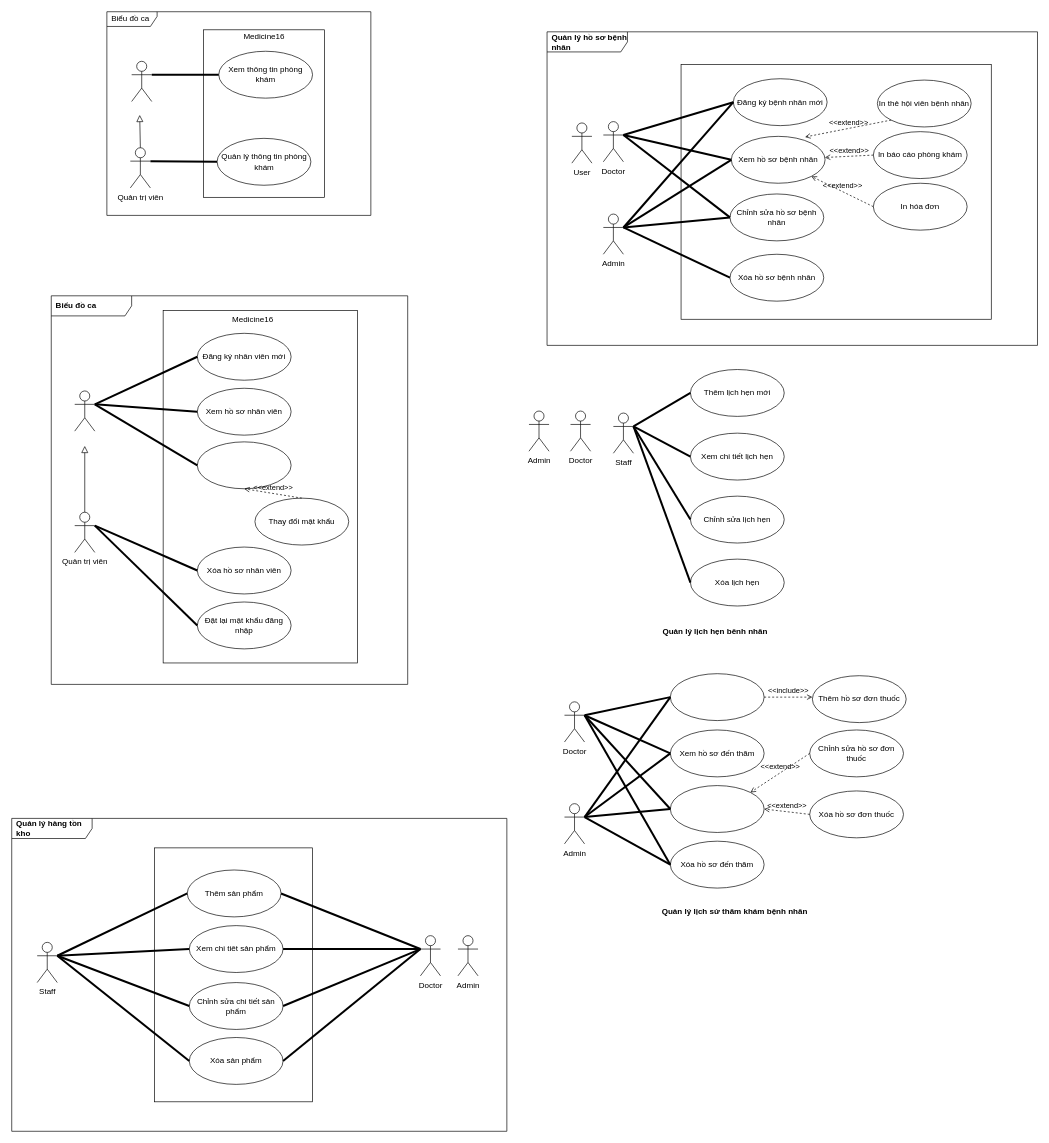
Image size: 1049x1143. Some labels were removed from this diagram. The centre of each missing label's shape, as x and y in pixels:
"Chỉnh sửa hồ sơ nhân viên" belongs at pixel 244 465.
"Chỉnh sửa hồ sơ đến thăm" belongs at pixel 717 808.
"Khách" belongs at pixel 141 81.
"Nhân viên" belongs at pixel 84 410.
"Thêm hồ sơ đến thăm" belongs at pixel 717 697.
